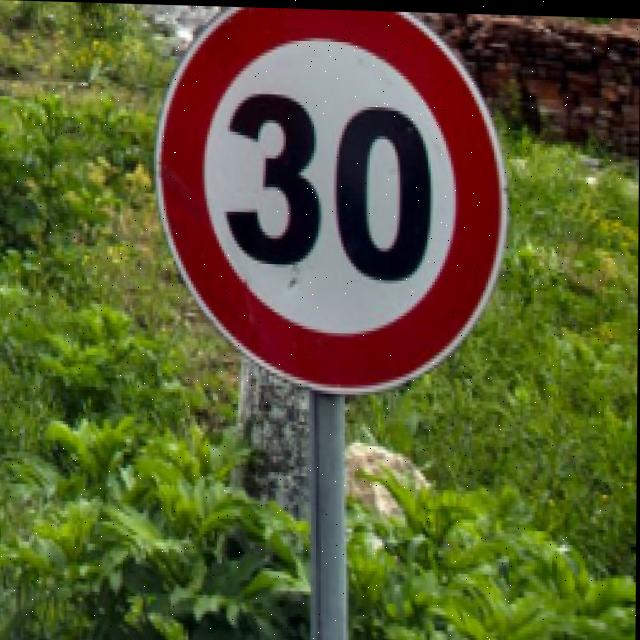Speed limit 30: (151, 5, 514, 400)
